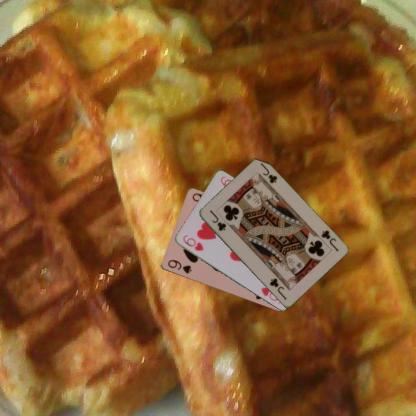6h: (180, 232, 204, 252)
9s: (165, 257, 192, 276)
Jc: (314, 228, 340, 252), (207, 208, 227, 232)
